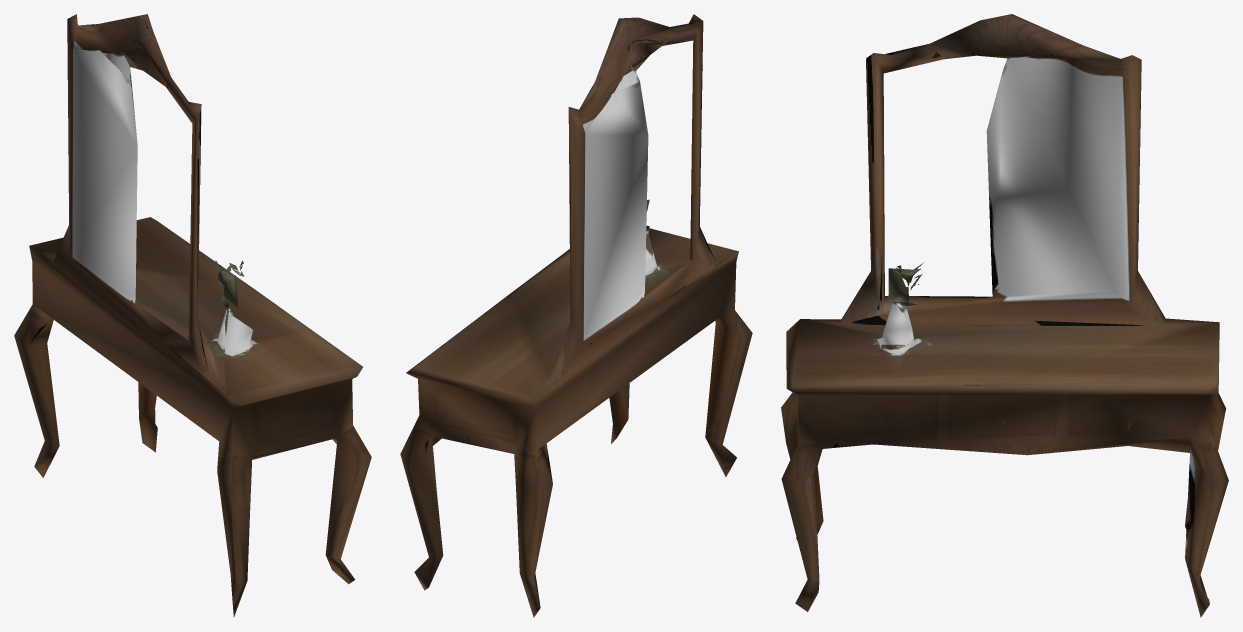
The model's file is Mirrar Table.fbx.
The picture shows the model from 3 angles, left to right: view 1: azimuth 30°, elevation 25°; view 2: azimuth 150°, elevation 25°; view 3: azimuth 270°, elevation 25°; orthographic projection. The views are drawn at different scales.
Parts seen in each view (by area): view 1: Mirrar Table; view 2: Mirrar Table; view 3: Mirrar Table.
Boxes of the visible parts, box(x1,y1,x2,y2) form: Mirrar Table: box(14, 14, 371, 616); Mirrar Table: box(400, 14, 752, 617); Mirrar Table: box(781, 14, 1228, 617).
Bounding box in the file's own units: 27.1 × 93.15 × 68.77.
1 material, 1 textured.
